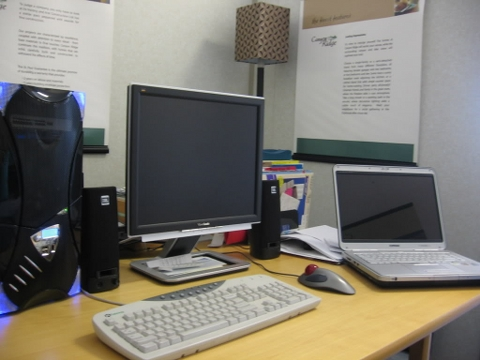pc: (126, 83, 265, 283), (333, 164, 480, 290)
